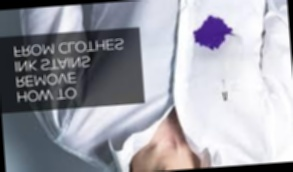ink: (194, 17, 230, 49)
